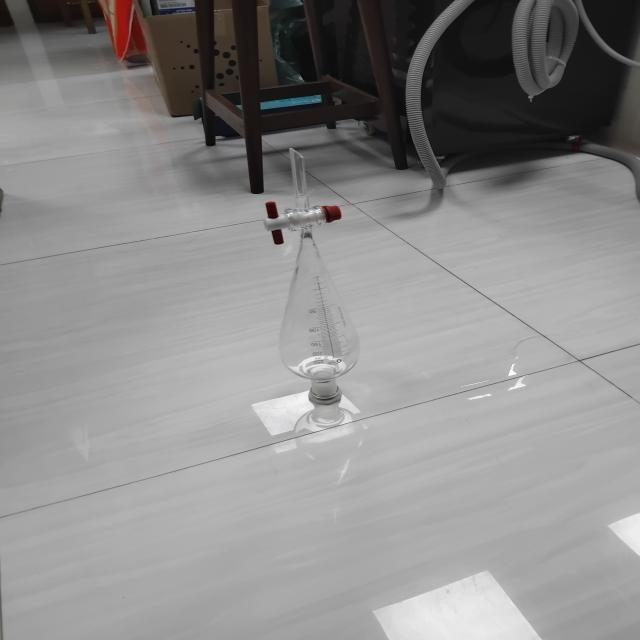Separating_Funnel: (228, 127, 404, 434)
